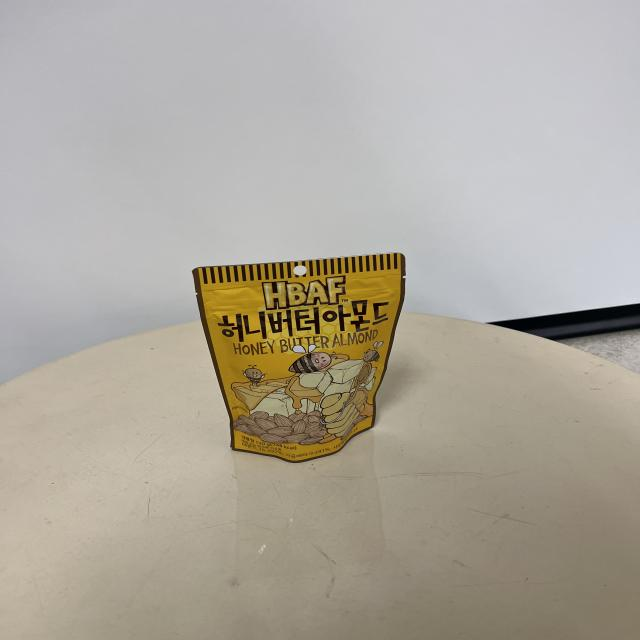honeyAmond: (206, 251, 397, 457)
